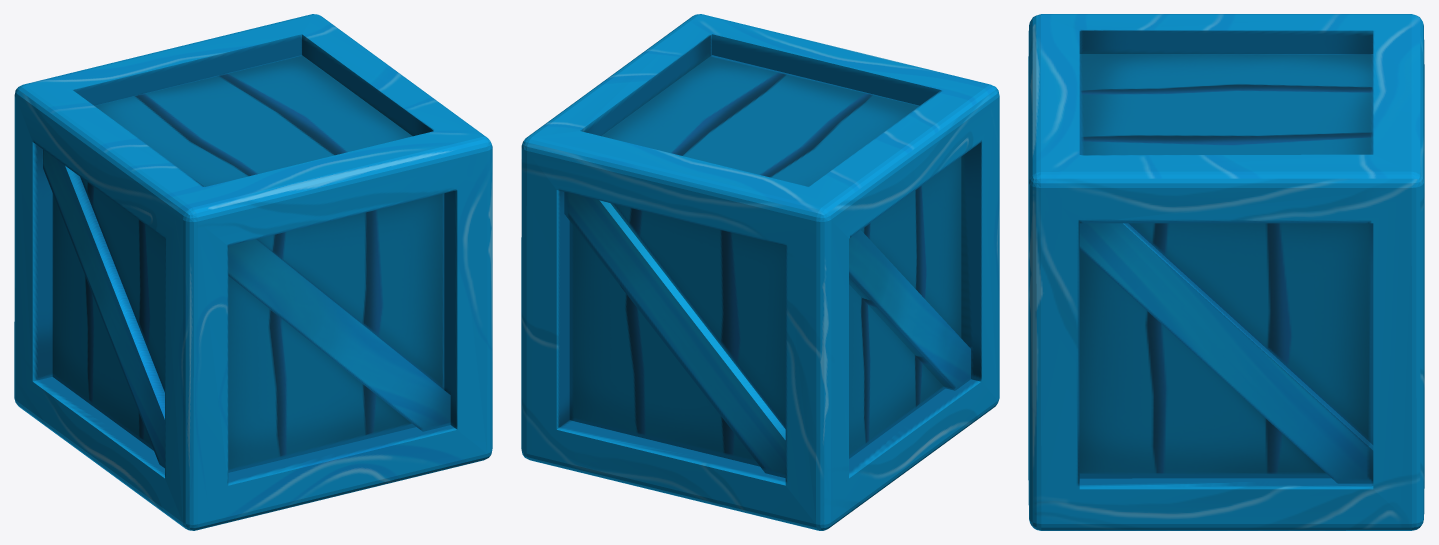
Rendered from Wood_Blue_new.fbx.
3 views of the same model, side by side, from view 1: azimuth 30°, elevation 25°; view 2: azimuth 150°, elevation 25°; view 3: azimuth 270°, elevation 25° (orthographic). The views are drawn at different scales.
Visible parts, largest first — view 1: kocka_plava1__2__45; view 2: kocka_plava1__2__45; view 3: kocka_plava1__2__45.
Boxes of the visible parts, x1,y1,x2,y2 form: kocka_plava1__2__45: (14, 14, 492, 530); kocka_plava1__2__45: (521, 14, 999, 530); kocka_plava1__2__45: (1028, 14, 1424, 530).
Size of the model in its own units: 101 by 101 by 101.
Materials: 1 (1 with a texture image).
